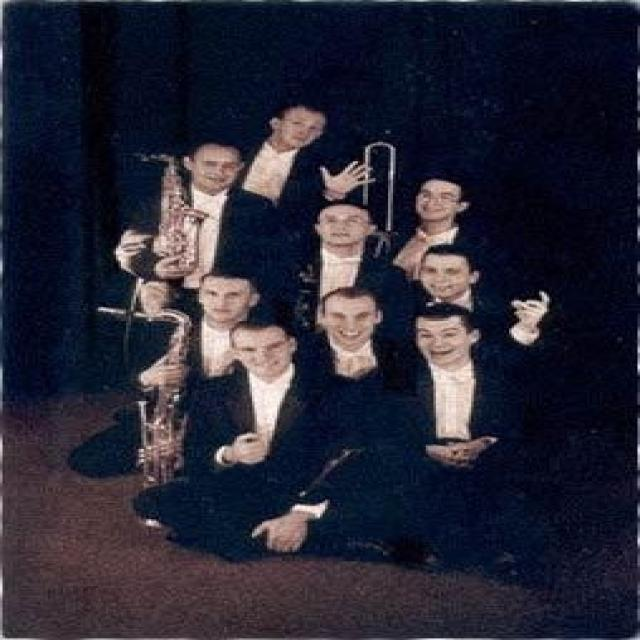saxophone: (102, 303, 192, 497), (128, 145, 206, 310)
